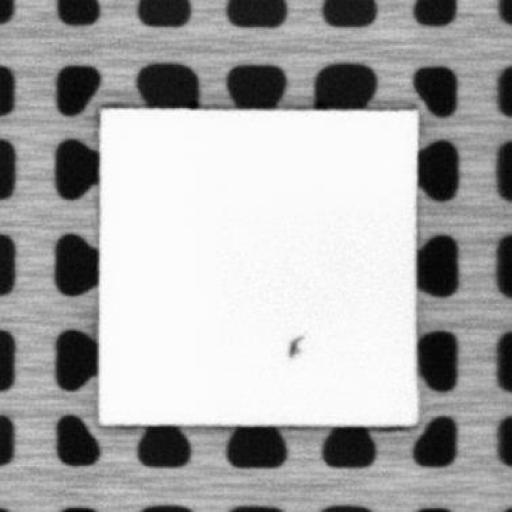DIE_INK: (283, 331, 305, 358)
